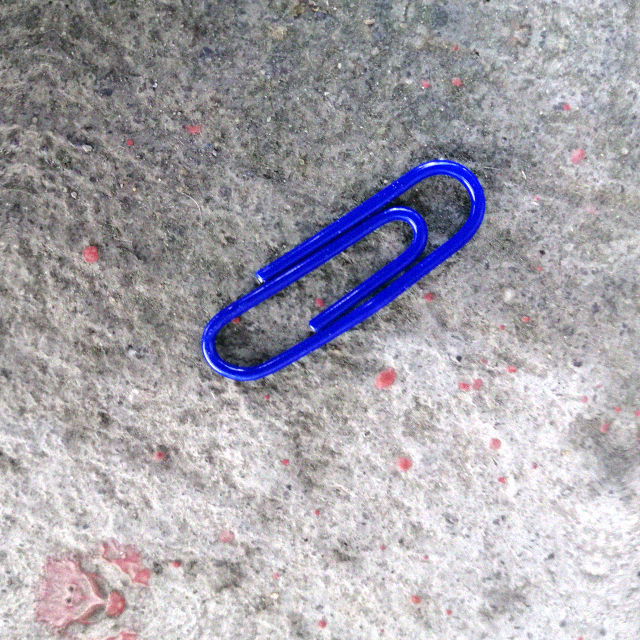pin: (201, 111, 491, 424)
